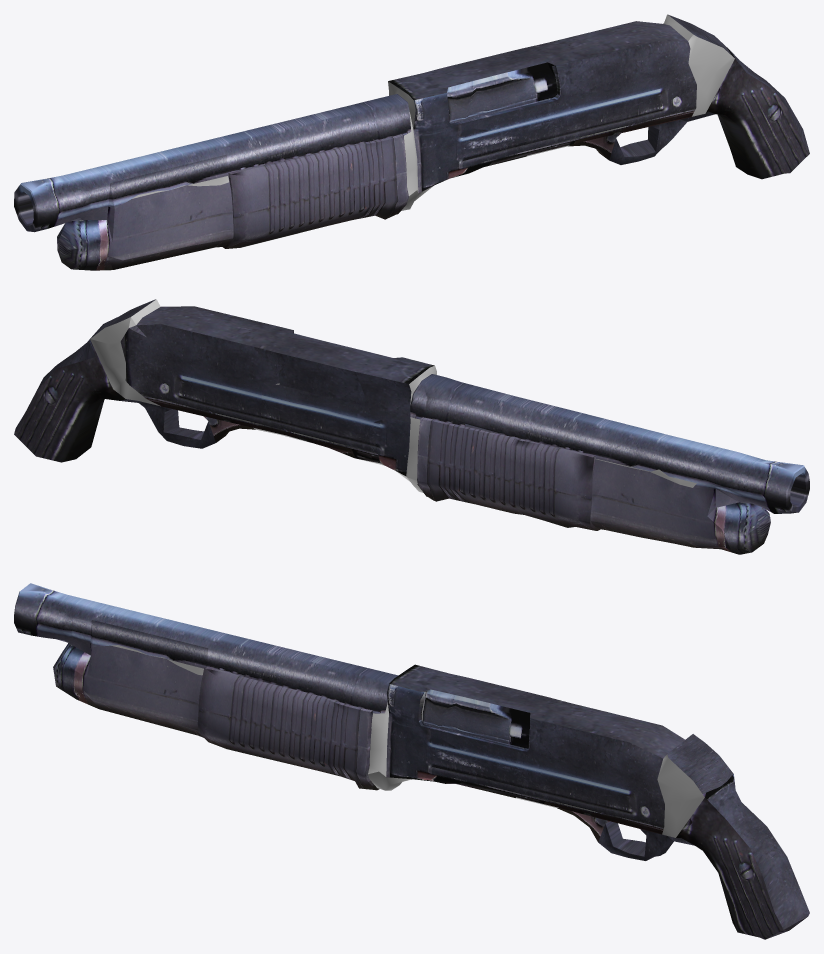
Rendered from KriegSolver.fbx.
The picture shows the model from 3 angles, top to bottom: view 1: azimuth 30°, elevation 25°; view 2: azimuth 150°, elevation 25°; view 3: azimuth 330°, elevation 25°; orthographic projection.
Parts seen in each view (by area): view 1: KS23_KriegSolver, recivier; view 2: KS23_KriegSolver, recivier; view 3: KS23_KriegSolver, recivier.
Part boxes in pixels (left/top/right/bottom): KS23_KriegSolver: left=14, top=14, right=809, bottom=270; recivier: left=223, top=134, right=408, bottom=248; KS23_KriegSolver: left=14, top=299, right=809, bottom=554; recivier: left=417, top=417, right=600, bottom=530; KS23_KriegSolver: left=14, top=583, right=809, bottom=939; recivier: left=197, top=666, right=379, bottom=790.
Size of the model in its own units: 0.9951 by 0.0931 by 0.2051.
